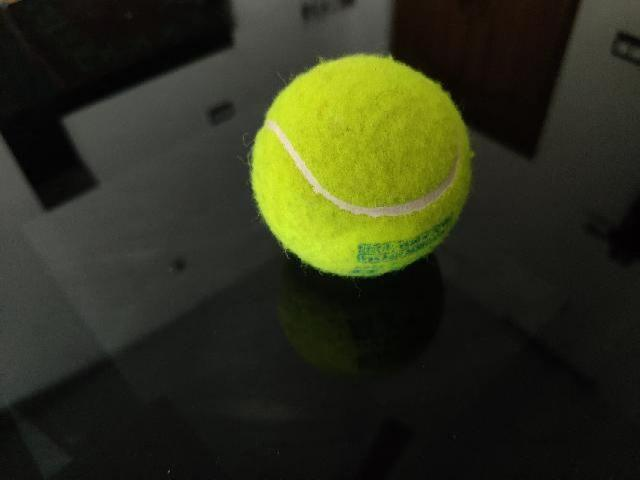tennis-ball: (248, 52, 472, 278)
